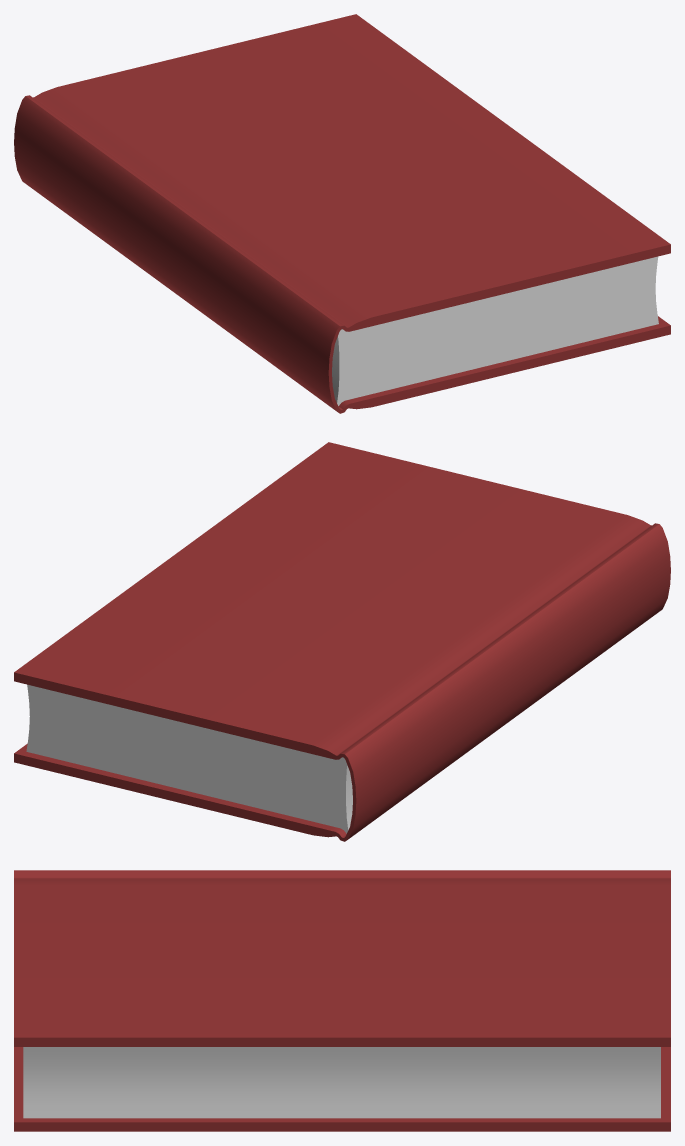
Rendered from kitap_krmz.fbx.
3 renders of one model, top to bottom at view 1: azimuth 30°, elevation 25°; view 2: azimuth 150°, elevation 25°; view 3: azimuth 270°, elevation 25°, orthographic. The views are drawn at different scales.
Visible parts, largest first — view 1: book_01; view 2: book_01; view 3: book_01.
Part boxes in pixels (box(x1,y1,x2,y2)): book_01: box(14, 14, 670, 413); book_01: box(14, 442, 670, 841); book_01: box(14, 870, 670, 1131).
Size of the model in its own units: 13.51 by 3.39 by 21.51.
